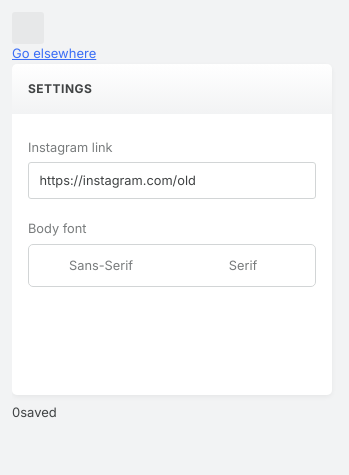
SiteSettingsPage › after a save, the preview shows the saved settings, not the unsaved copy
The width and height of the screenshot is (349, 475).
Replace the text in the field labelled "Instagram link" with "https://instagram.com/new" at {"x": 172, "y": 181}, box [28,162,316,200]
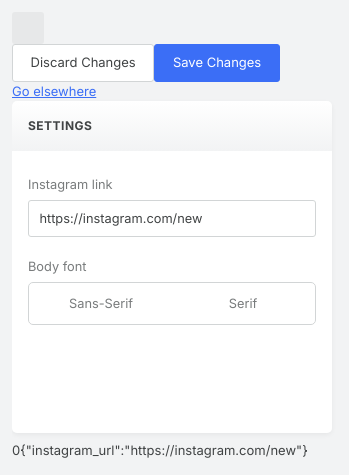
Check: the text with test id "preview-settings" no longer shows "saved"
Click the button "Save Changes" at {"x": 217, "y": 63}, box [154,44,280,82]
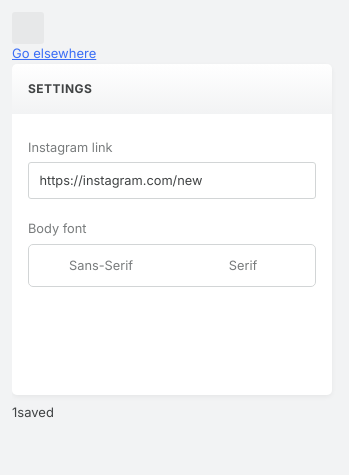
Check: the button "Save Changes" is gone
Check: the text with test id "preview-settings" reads "saved", box [17,404,54,420]
